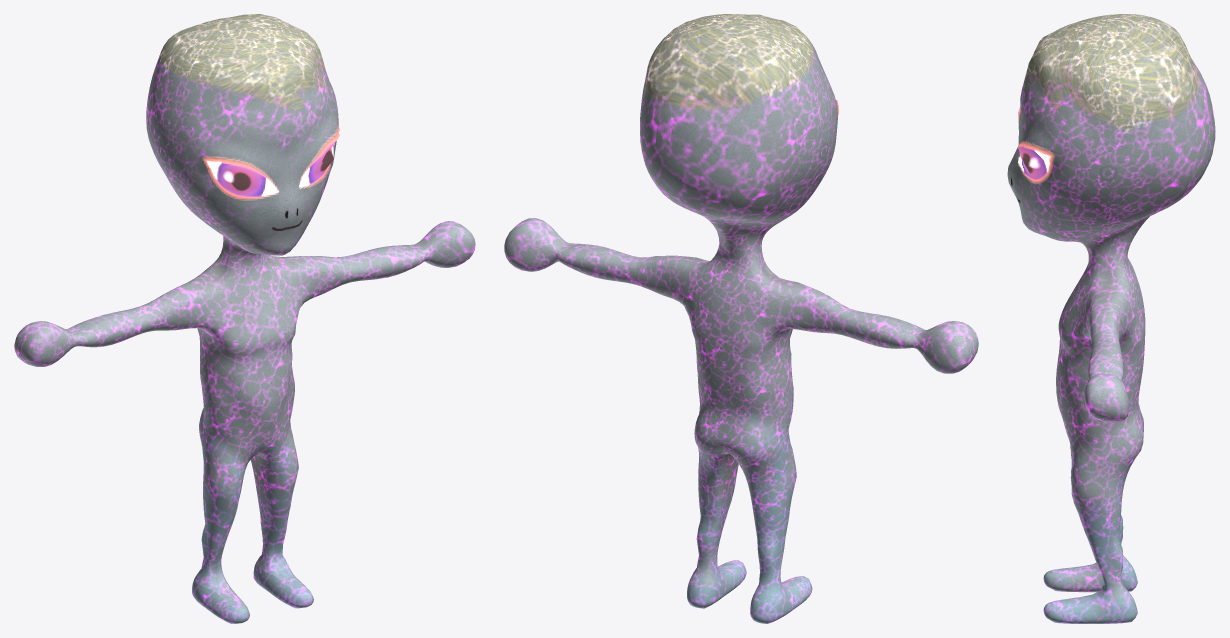
The model's file is Alien_mesh.fbx.
The picture shows the model from 3 angles, left to right: view 1: azimuth 30°, elevation 25°; view 2: azimuth 150°, elevation 25°; view 3: azimuth 270°, elevation 25°; orthographic projection. The views are drawn at different scales.
Visible parts, largest first — view 1: Alien; view 2: Alien; view 3: Alien.
Boxes of the visible parts, x1=… form: Alien: x1=14, y1=14, x2=475, y2=623; Alien: x1=504, y1=14, x2=978, y2=623; Alien: x1=1007, y1=14, x2=1215, y2=623.
Size of the model in its own units: 158 by 190 by 61.93.
